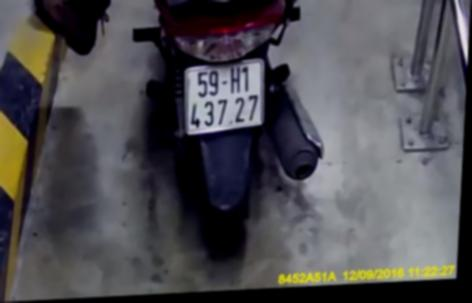License_Plate: (167, 52, 280, 142)
